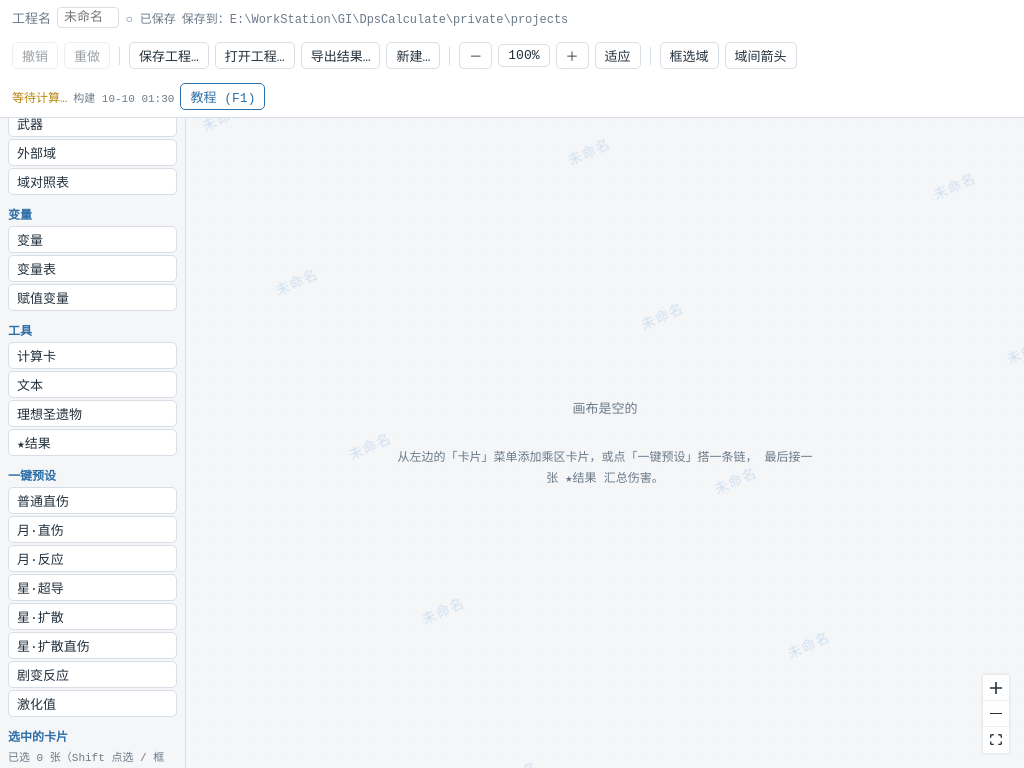
App 集成（假后端 + 真 schema） › ★结果 卡片右键设置三元组变量，并保留在求值载荷里
(page scrolled)
Expected: the element with test id "sidebar" is shown, [0,118,186,767]
Click the button "★结果". click: point(92, 442)
box: [8,429,177,456]
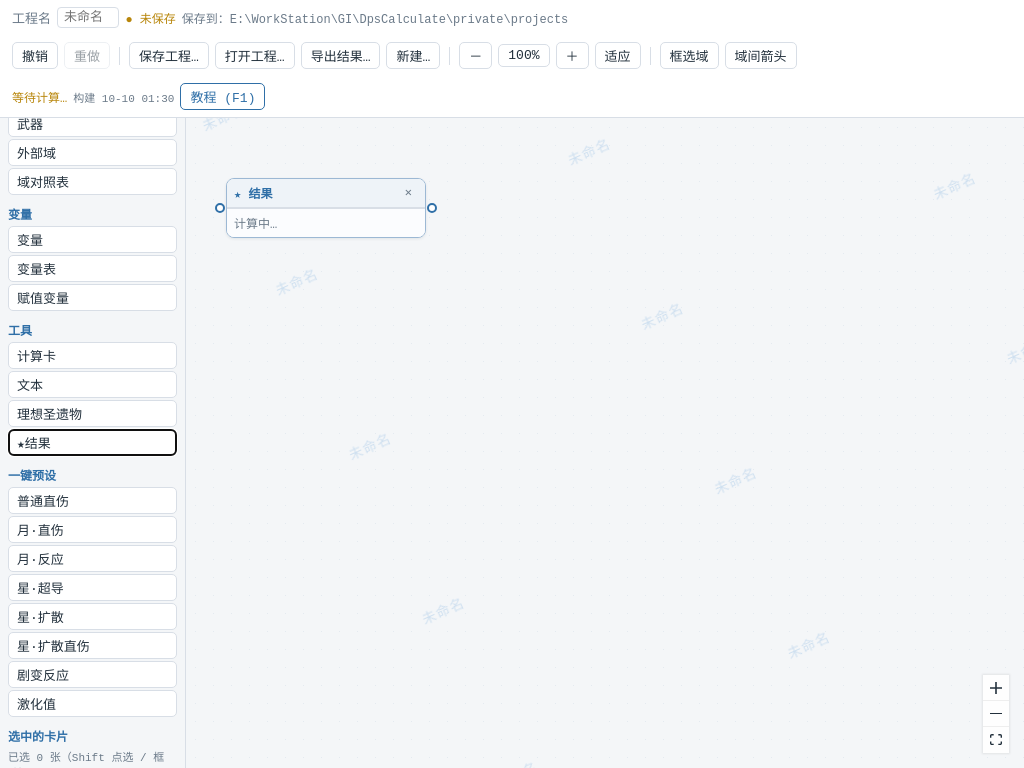
Right-click the text "★ 结果" at point(253, 195), box [234,188,272,202]
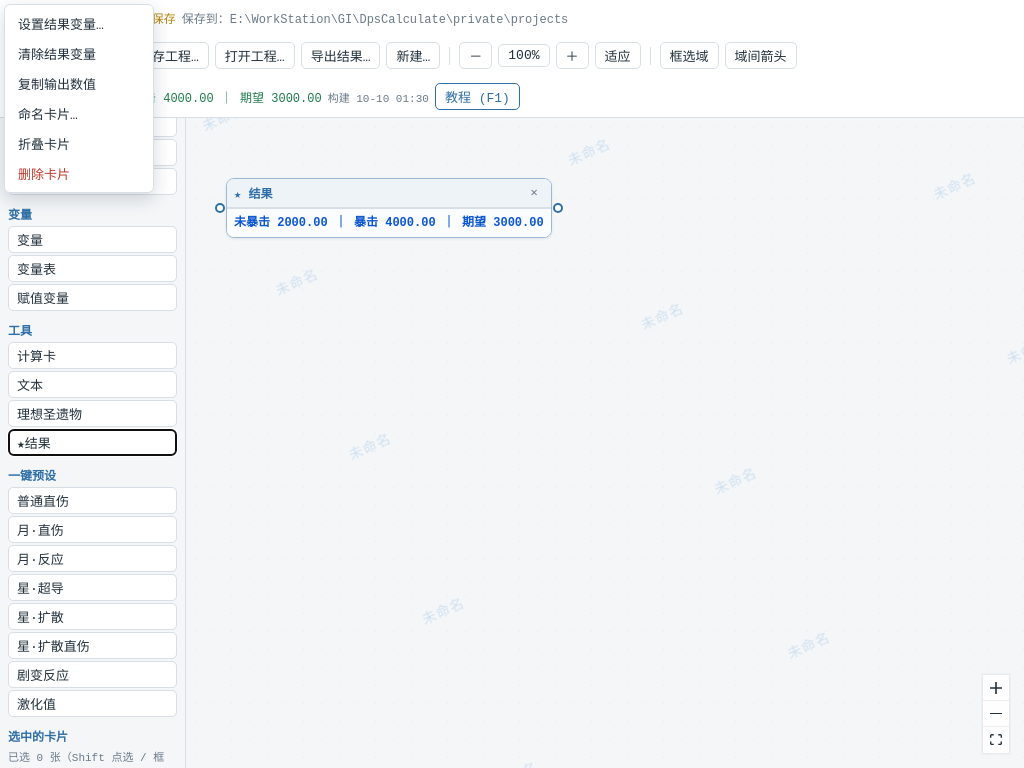
Click the button "设置结果变量…". click: point(79, 24)
box: [9,9,149,38]
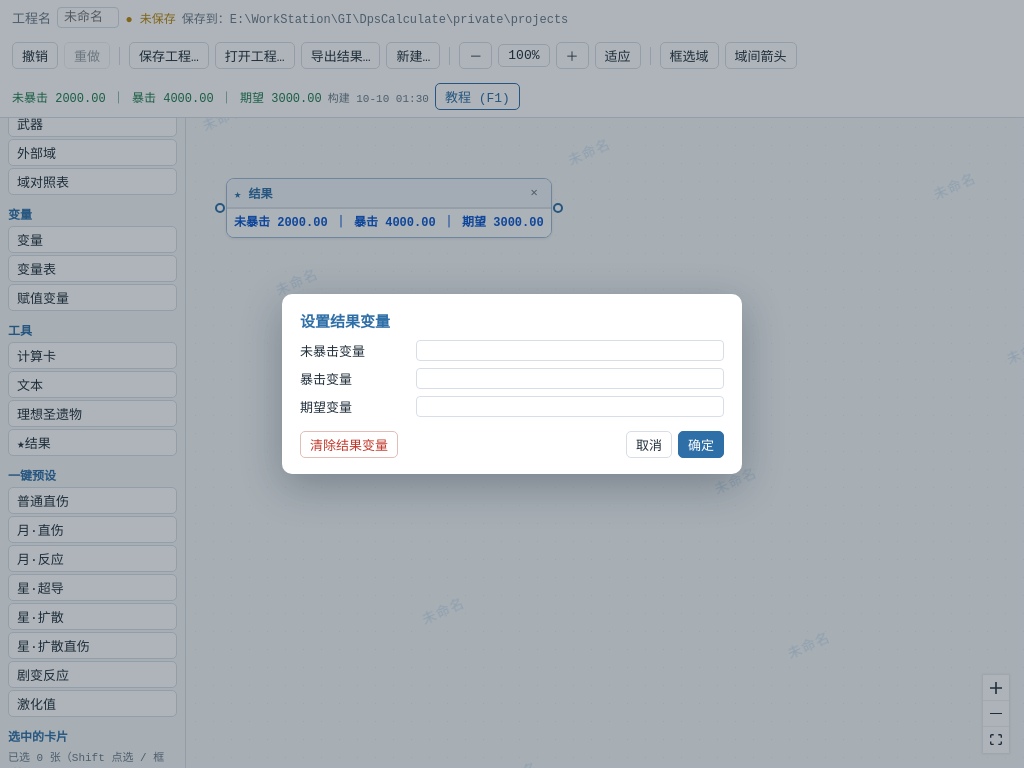
Type "期望伤害" into the field with test id "var-var_ex". click: point(570, 406)
box: [416,396,724,417]
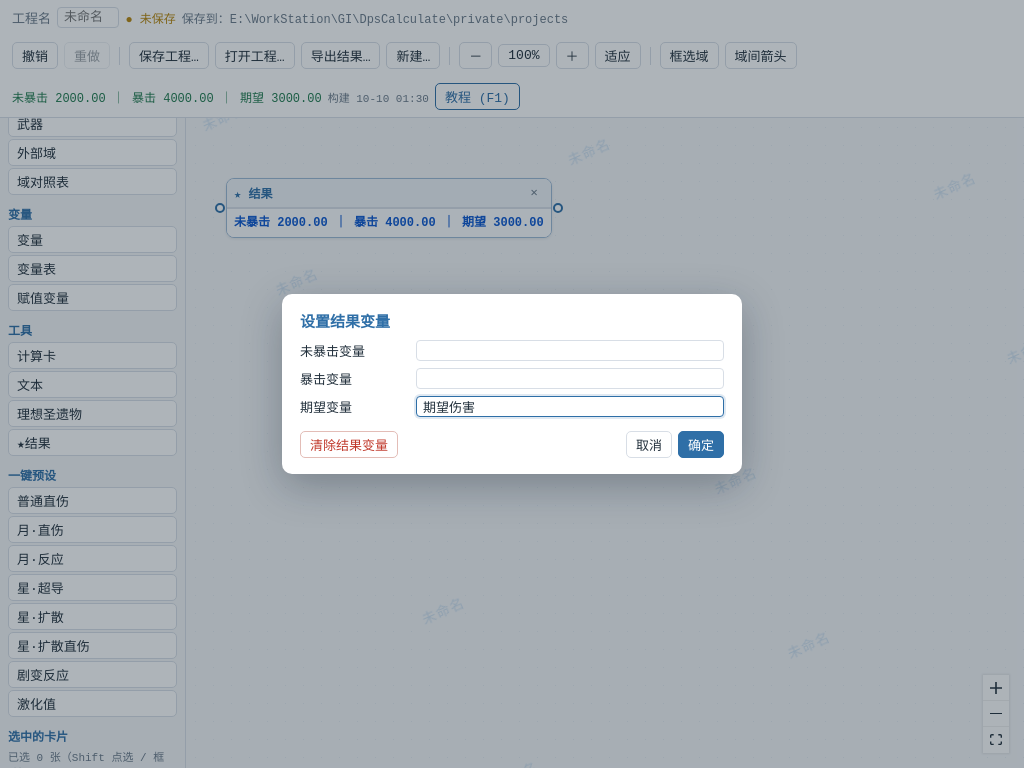
Click the button "确定". click: point(701, 444)
box: [678,431,724,458]
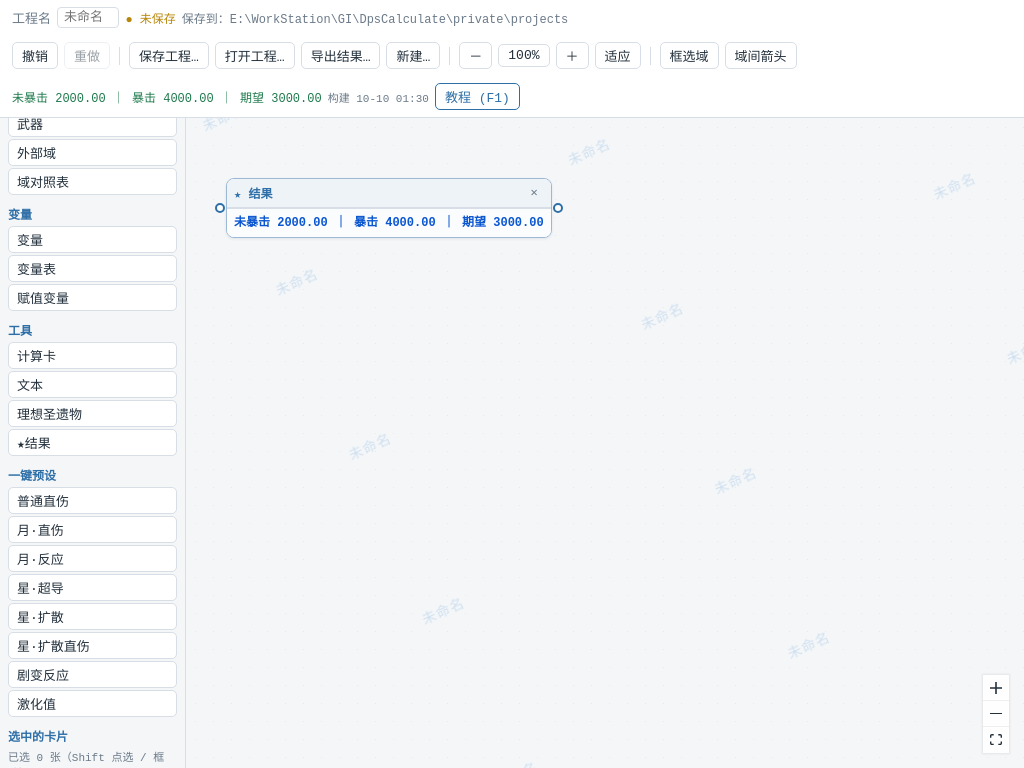
Result: the dialog with test id "result-vars-dialog" is gone
